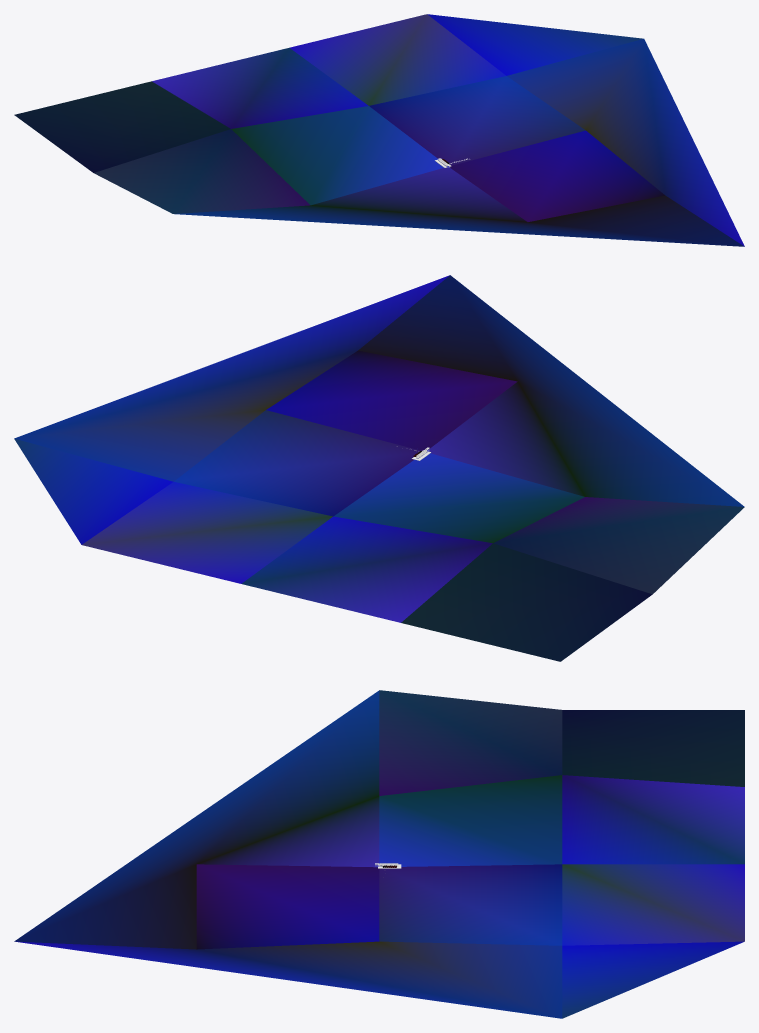
The picture shows the model from 3 angles, top to bottom: view 1: azimuth 30°, elevation 25°; view 2: azimuth 150°, elevation 25°; view 3: azimuth 270°, elevation 25°; orthographic projection. The views are drawn at different scales.
Parts seen in each view (by area): view 1: Cube; view 2: Cube; view 3: Cube.
Part boxes in pixels (x1=…): Cube: x1=14, y1=14, x2=744, y2=246; Cube: x1=14, y1=275, x2=744, y2=661; Cube: x1=14, y1=690, x2=744, y2=1018.
Size of what is drawn, in the model's own units: 400000 by 17313 by 400000.
